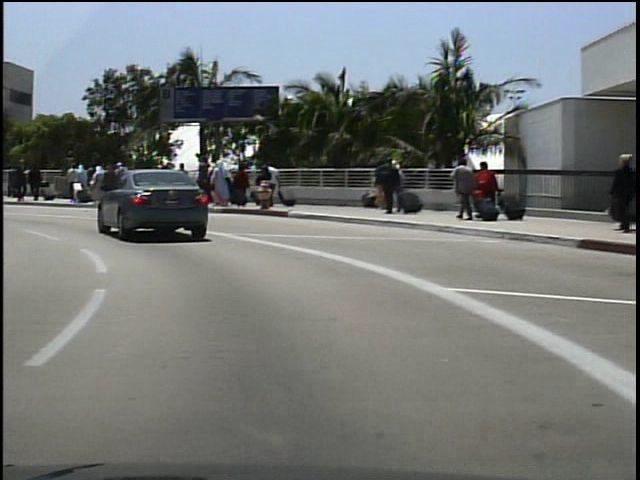person: (605, 151, 636, 237), (448, 155, 476, 224), (369, 156, 400, 217), (471, 158, 497, 220), (24, 161, 48, 208), (260, 159, 281, 207), (13, 157, 32, 202), (6, 164, 23, 203)
